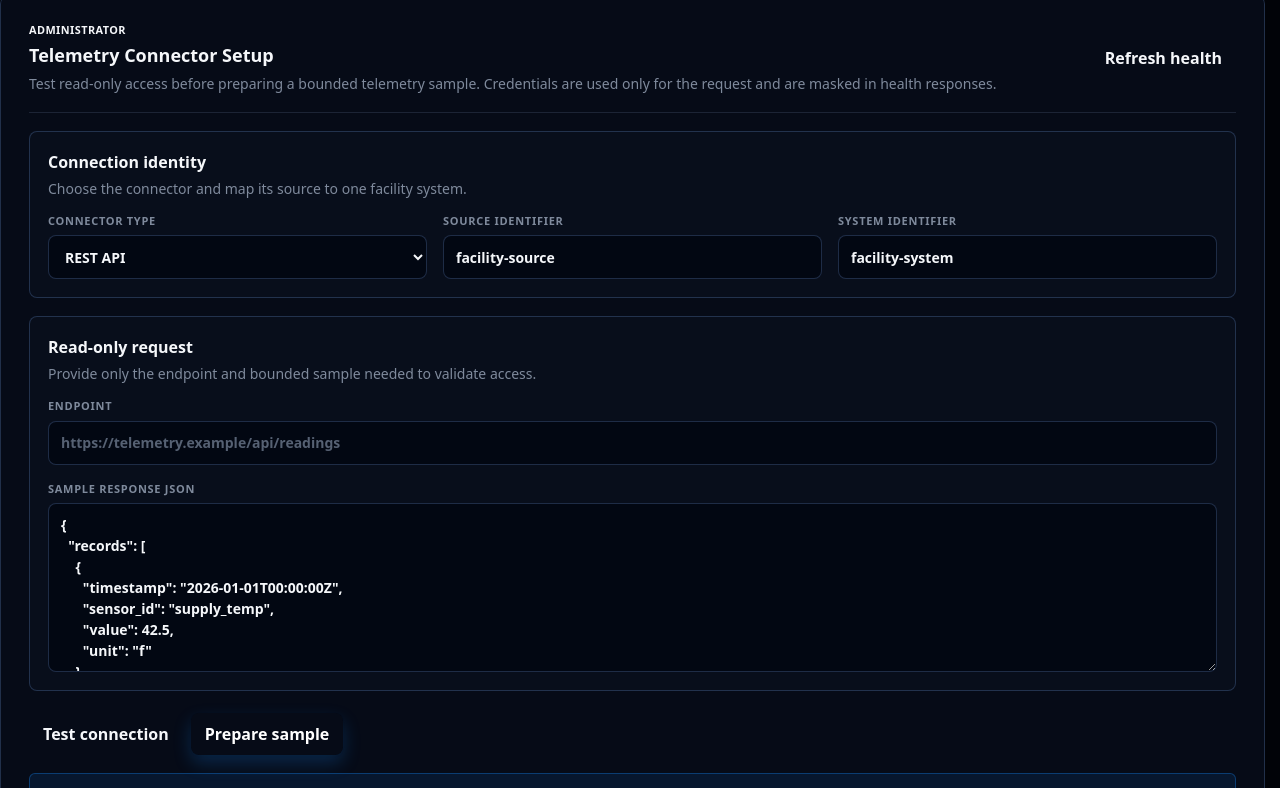
it: ConnectorSetupPanel › tests a REST sample once, reports success, and refreshes health
The image size is (1280, 788).
Click the button "Test connection": (106, 734) [29,713,183,755]
(page scrolled)
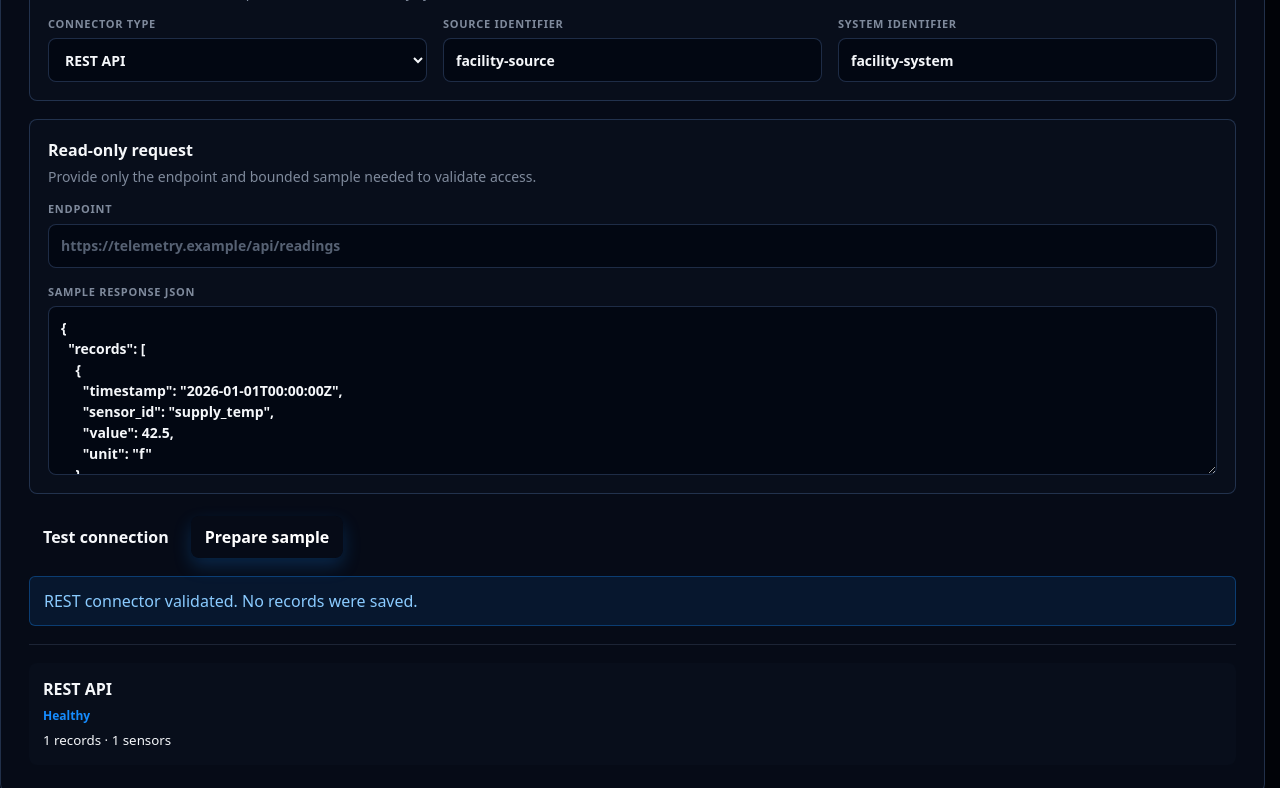
Expected: the text "REST connector validated. No records were saved." is shown, [29,576,1236,626]
